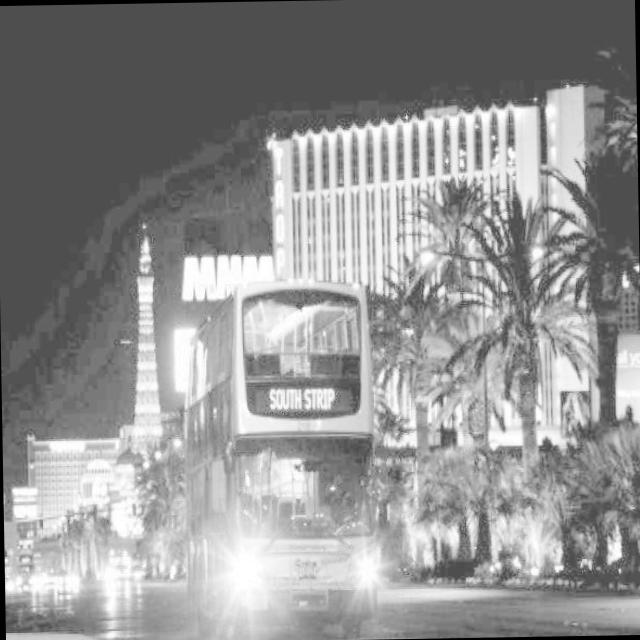Bus: (173, 235, 392, 640)
